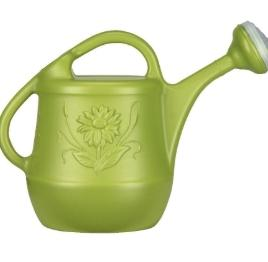ARROSOIR: (0, 1, 268, 248)
